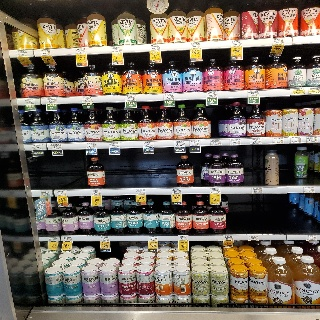All PRICE TAGS: (293, 88, 306, 95), (306, 136, 318, 143), (303, 186, 315, 193), (231, 40, 243, 47), (273, 38, 285, 45), (48, 143, 61, 149), (191, 42, 202, 49), (45, 97, 56, 104), (290, 137, 302, 143), (31, 144, 43, 150), (75, 48, 87, 54), (81, 97, 93, 103), (124, 95, 136, 101), (247, 91, 259, 97), (273, 137, 285, 143), (55, 190, 67, 196), (40, 49, 50, 56), (252, 187, 263, 193), (306, 235, 317, 241), (24, 98, 35, 104), (150, 44, 161, 50), (163, 94, 174, 100), (206, 92, 217, 98), (86, 143, 97, 149), (109, 142, 120, 148), (143, 141, 154, 147), (230, 139, 241, 145), (250, 138, 261, 144), (135, 189, 146, 195), (171, 188, 182, 194), (40, 190, 50, 196), (16, 51, 28, 56), (112, 46, 122, 52), (210, 140, 222, 145), (248, 235, 259, 240), (309, 88, 320, 93), (174, 141, 185, 146), (189, 140, 200, 145), (210, 188, 221, 193), (48, 236, 57, 242), (62, 236, 72, 241), (91, 190, 101, 195), (224, 235, 233, 240), (100, 236, 109, 241), (148, 236, 158, 240), (179, 236, 188, 240)
